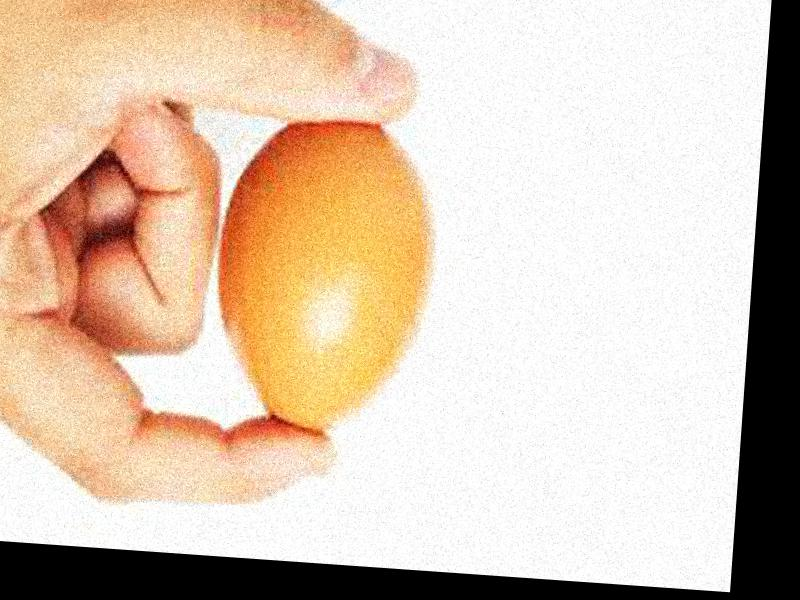Eggs: (205, 112, 445, 445)
